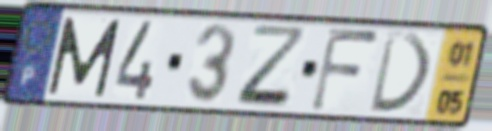3: (185, 21, 239, 107)
4: (113, 18, 156, 102)
D: (367, 29, 436, 115)
F: (307, 24, 382, 115)
M: (44, 15, 124, 100)
Z: (233, 23, 311, 112)
